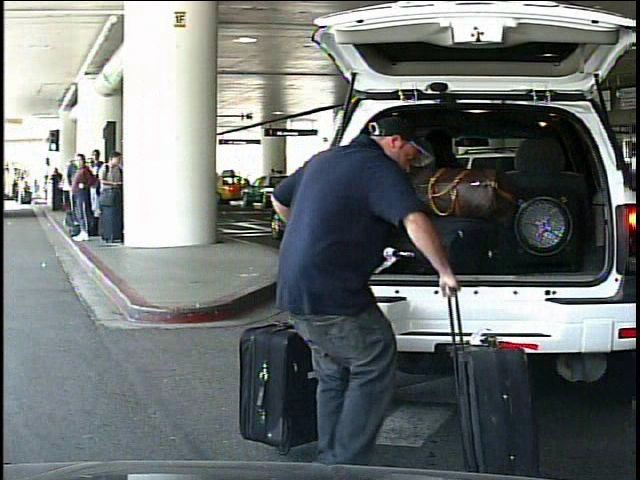person: (270, 103, 457, 477), (18, 176, 29, 207)
